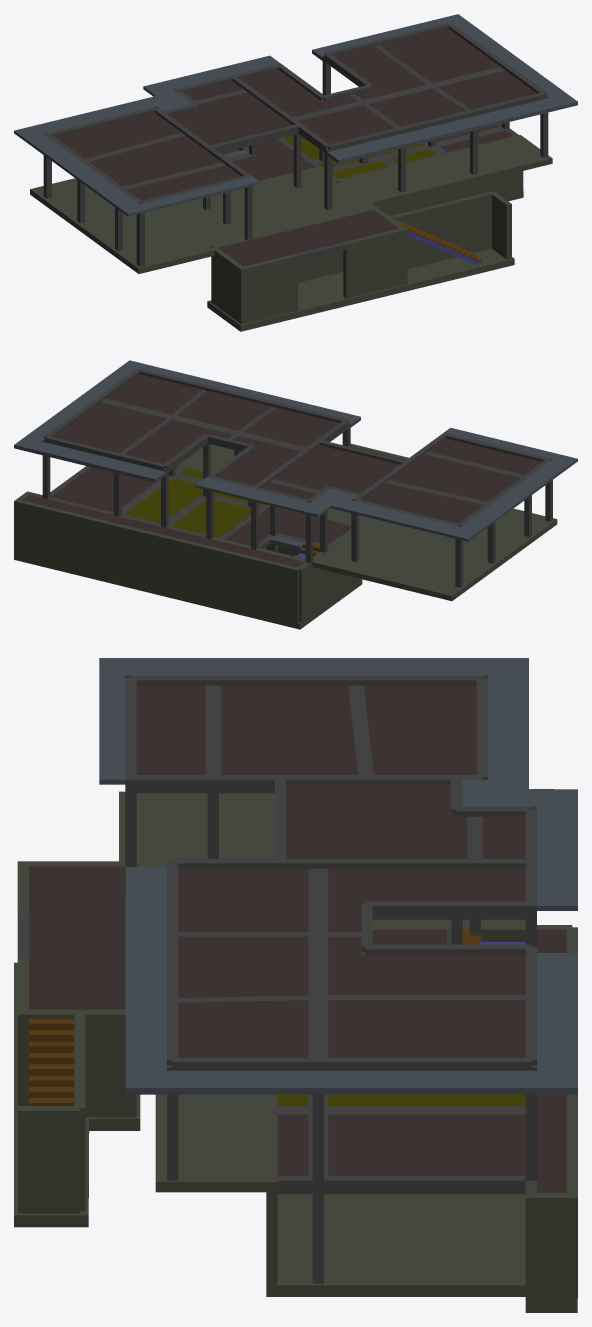
The model's file is cantamessa.dae.
3 renders of one model, top to bottom at view 1: azimuth 30°, elevation 25°; view 2: azimuth 150°, elevation 25°; view 3: azimuth 270°, elevation 25°, orthographic. The views are drawn at different scales.
Visible parts, largest first — view 1: product-af607778-cdaa-4f88-bcd7-34a882c46c33-body, product-20c7f80d-7ab5-4c37-ac3d-340539ca60da-body, product-d9493e46-8f7f-44a6-ae13-bb06030ab6d6-body, product-c044ca3b-0eaa-40d7-b4aa-c95d2c5702d1-body, product-ec323db3-4298-4945-928f-835e4d38949f-body, product-5c3db58d-ff96-46c4-bfcc-4c4b23a880e9-body, product-bfcabb76-7b02-4718-8a80-3d0c68d0b8c0-body, product-27d30476-d740-4d35-922e-665b66600b8f-body, product-5048c139-515c-46c5-b5a7-3d0761b30ad3-body, product-7acd3366-86ce-491e-8a48-ebba995b7453-body, product-2775d2e8-8a57-4d26-9bfc-8472a2b7d161-body, product-b2f03e20-e3c8-4d0a-8ae3-5353f69986ef-body (+33 smaller); view 2: product-f907f915-4a4a-42df-8397-56568793c12a-body, product-af607778-cdaa-4f88-bcd7-34a882c46c33-body, product-20c7f80d-7ab5-4c37-ac3d-340539ca60da-body, product-d9493e46-8f7f-44a6-ae13-bb06030ab6d6-body, product-27d30476-d740-4d35-922e-665b66600b8f-body, product-7acd3366-86ce-491e-8a48-ebba995b7453-body, product-5048c139-515c-46c5-b5a7-3d0761b30ad3-body, product-b2f03e20-e3c8-4d0a-8ae3-5353f69986ef-body, product-db1e2ed0-4526-4ef5-88e2-2987d8e2165a-body, product-6f289a5f-fdc0-47b6-a0c4-9ae429d21c44-body, product-12b05691-28ab-42e6-a6bf-b237169e0ac7-body, product-d440511d-7697-42b6-a286-65686d808b0d-body (+36 smaller); view 3: product-6f289a5f-fdc0-47b6-a0c4-9ae429d21c44-body, product-d9493e46-8f7f-44a6-ae13-bb06030ab6d6-body, product-20c7f80d-7ab5-4c37-ac3d-340539ca60da-body, product-af607778-cdaa-4f88-bcd7-34a882c46c33-body, product-5c3db58d-ff96-46c4-bfcc-4c4b23a880e9-body, product-27d30476-d740-4d35-922e-665b66600b8f-body, product-db1e2ed0-4526-4ef5-88e2-2987d8e2165a-body, product-7acd3366-86ce-491e-8a48-ebba995b7453-body, product-5048c139-515c-46c5-b5a7-3d0761b30ad3-body, product-b2f03e20-e3c8-4d0a-8ae3-5353f69986ef-body, product-82862d9f-2622-4721-a68b-d5a0e30b35b7-body, product-5bf1faea-bb48-4b7a-8582-33ae89f87d0e-body (+49 smaller).
Part boxes in pixels (<box>): product-af607778-cdaa-4f88-bcd7-34a882c46c33-body: <box>30,137,552,273</box>; product-20c7f80d-7ab5-4c37-ac3d-340539ca60da-body: <box>14,55,280,216</box>; product-d9493e46-8f7f-44a6-ae13-bb06030ab6d6-body: <box>312,14,577,163</box>; product-c044ca3b-0eaa-40d7-b4aa-c95d2c5702d1-body: <box>207,249,514,331</box>; product-ec323db3-4298-4945-928f-835e4d38949f-body: <box>390,191,492,268</box>; product-5c3db58d-ff96-46c4-bfcc-4c4b23a880e9-body: <box>218,210,398,266</box>; product-bfcabb76-7b02-4718-8a80-3d0c68d0b8c0-body: <box>343,228,407,298</box>; product-27d30476-d740-4d35-922e-665b66600b8f-body: <box>170,92,292,145</box>; product-5048c139-515c-46c5-b5a7-3d0761b30ad3-body: <box>380,28,499,83</box>; product-7acd3366-86ce-491e-8a48-ebba995b7453-body: <box>89,135,221,186</box>; product-2775d2e8-8a57-4d26-9bfc-8472a2b7d161-body: <box>238,254,297,324</box>; product-b2f03e20-e3c8-4d0a-8ae3-5353f69986ef-body: <box>55,112,181,158</box>; product-f907f915-4a4a-42df-8397-56568793c12a-body: <box>16,500,299,622</box>; product-af607778-cdaa-4f88-bcd7-34a882c46c33-body: <box>180,444,557,600</box>; product-20c7f80d-7ab5-4c37-ac3d-340539ca60da-body: <box>196,427,577,541</box>; product-d9493e46-8f7f-44a6-ae13-bb06030ab6d6-body: <box>14,360,360,482</box>; product-27d30476-d740-4d35-922e-665b66600b8f-body: <box>274,445,399,493</box>; product-7acd3366-86ce-491e-8a48-ebba995b7453-body: <box>389,454,520,501</box>; product-5048c139-515c-46c5-b5a7-3d0761b30ad3-body: <box>53,402,166,453</box>; product-b2f03e20-e3c8-4d0a-8ae3-5353f69986ef-body: <box>362,483,483,523</box>; product-db1e2ed0-4526-4ef5-88e2-2987d8e2165a-body: <box>51,467,154,512</box>; product-6f289a5f-fdc0-47b6-a0c4-9ae429d21c44-body: <box>14,547,362,629</box>; product-12b05691-28ab-42e6-a6bf-b237169e0ac7-body: <box>22,494,305,567</box>; product-d440511d-7697-42b6-a286-65686d808b0d-body: <box>106,374,201,414</box>; product-6f289a5f-fdc0-47b6-a0c4-9ae429d21c44-body: <box>266,1194,577,1312</box>; product-d9493e46-8f7f-44a6-ae13-bb06030ab6d6-body: <box>125,867,577,1094</box>; product-20c7f80d-7ab5-4c37-ac3d-340539ca60da-body: <box>99,658,577,910</box>; product-af607778-cdaa-4f88-bcd7-34a882c46c33-body: <box>119,791,525,1192</box>; product-5c3db58d-ff96-46c4-bfcc-4c4b23a880e9-body: <box>29,866,125,1009</box>; product-27d30476-d740-4d35-922e-665b66600b8f-body: <box>286,785,467,858</box>; product-db1e2ed0-4526-4ef5-88e2-2987d8e2165a-body: <box>328,1114,525,1175</box>; product-7acd3366-86ce-491e-8a48-ebba995b7453-body: <box>221,685,358,774</box>; product-5048c139-515c-46c5-b5a7-3d0761b30ad3-body: <box>328,1000,525,1057</box>; product-b2f03e20-e3c8-4d0a-8ae3-5353f69986ef-body: <box>364,685,476,774</box>; product-82862d9f-2622-4721-a68b-d5a0e30b35b7-body: <box>328,936,525,994</box>; product-5bf1faea-bb48-4b7a-8582-33ae89f87d0e-body: <box>178,868,308,931</box>.
Size of the model in its own units: 26.71 by 15.1 by 6.89.
